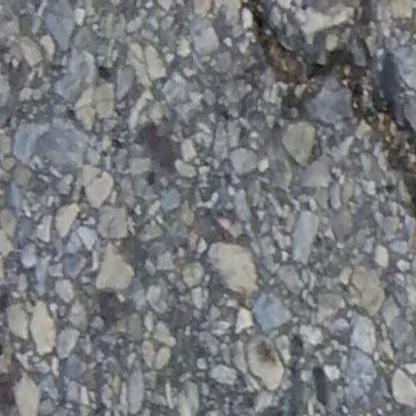Cracks: (235, 0, 416, 247)
